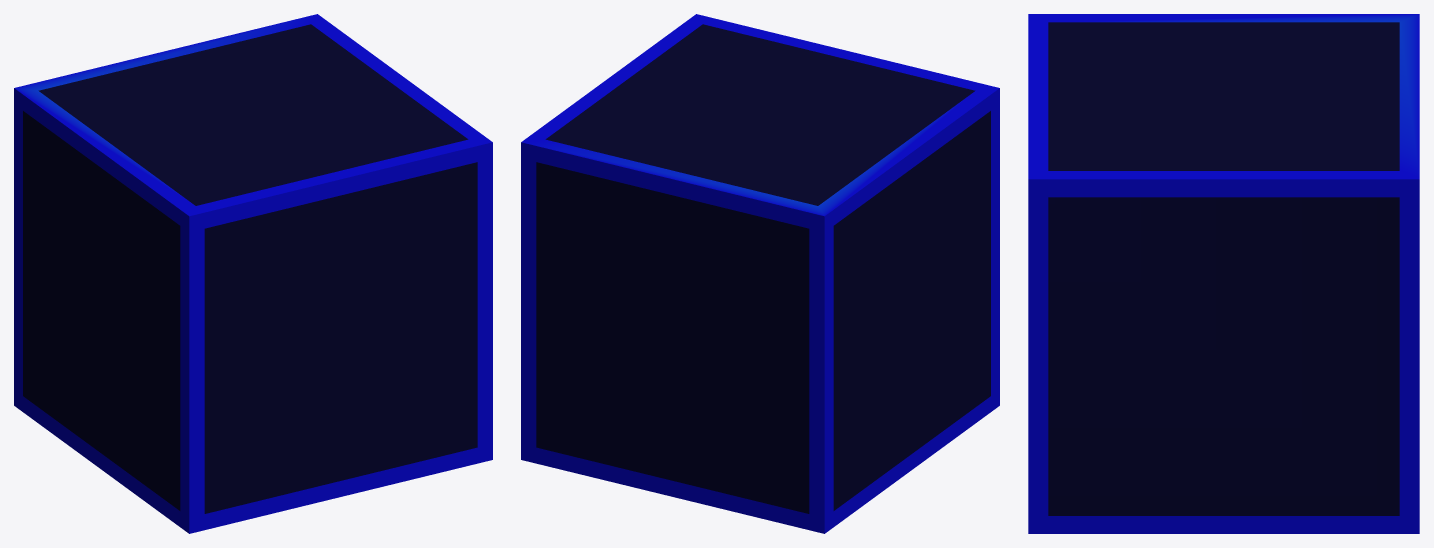
File: test_linemate.glb
3 renders of one model, left to right at view 1: azimuth 30°, elevation 25°; view 2: azimuth 150°, elevation 25°; view 3: azimuth 270°, elevation 25°, orthographic. The views are drawn at different scales.
Parts seen in each view (by area): view 1: test_nourriture; view 2: test_nourriture; view 3: test_nourriture.
Part boxes in pixels (x1,y1,x2,y2): test_nourriture: (14,14,492,533); test_nourriture: (521,14,999,533); test_nourriture: (1028,14,1419,533).
Bounding box in the file's own units: 0.2 × 0.2 × 0.2.
